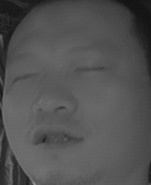blink: (11, 63, 43, 88), (75, 57, 105, 79)
mouth: (27, 121, 85, 155)
